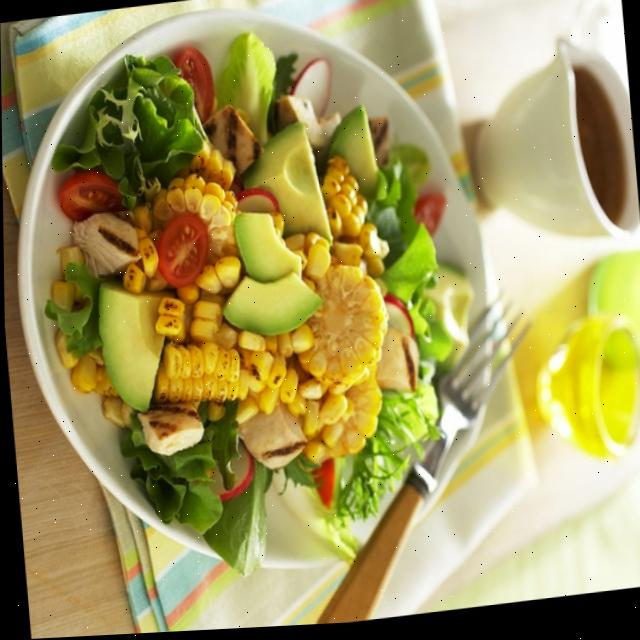鸡肉料理 含炸鸡: (27, 5, 505, 590)
